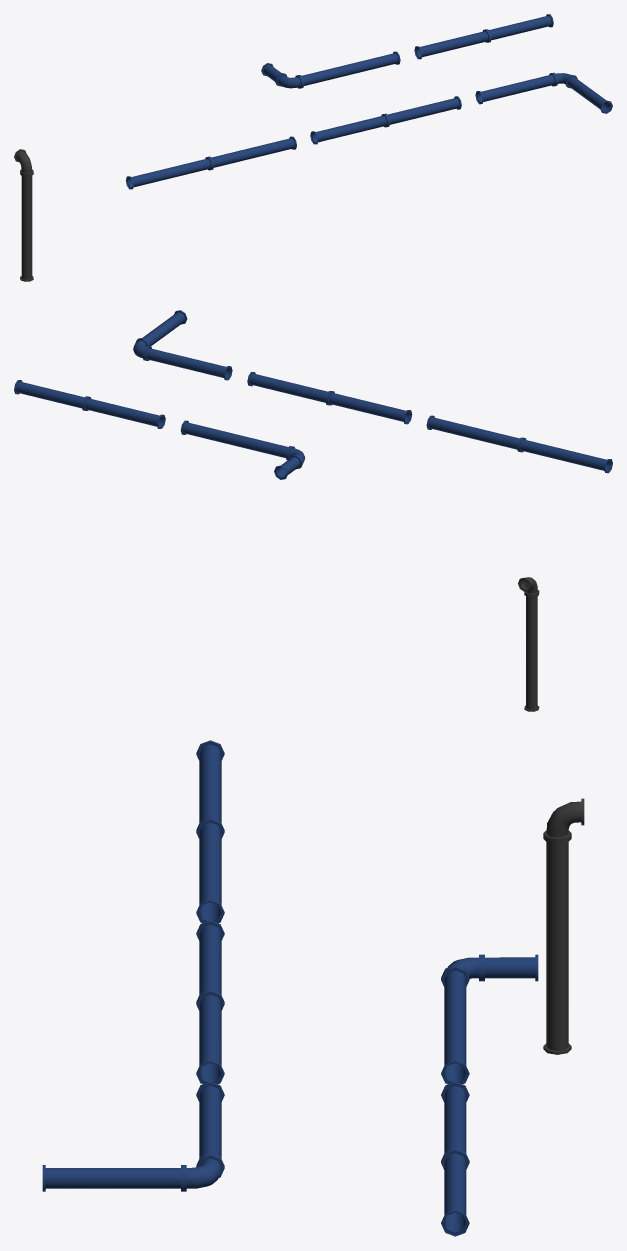
The model's file is SM_H_Building_Tide_Canteen_03B_ATLAS.fbx.
3 views of the same model, one above another, from view 1: azimuth 30°, elevation 25°; view 2: azimuth 150°, elevation 25°; view 3: azimuth 270°, elevation 25° (orthographic). The views are drawn at different scales.
Parts seen in each view (by area): view 1: SM_H_Building_Tide_Canteen_03B_ATLAS; view 2: SM_H_Building_Tide_Canteen_03B_ATLAS; view 3: SM_H_Building_Tide_Canteen_03B_ATLAS.
Part boxes in pixels (x1,y1,x2,y2): SM_H_Building_Tide_Canteen_03B_ATLAS: (14, 14, 612, 281); SM_H_Building_Tide_Canteen_03B_ATLAS: (14, 310, 612, 711); SM_H_Building_Tide_Canteen_03B_ATLAS: (42, 740, 584, 1236).
Size of the model in its own units: 1611 by 749 by 495.
